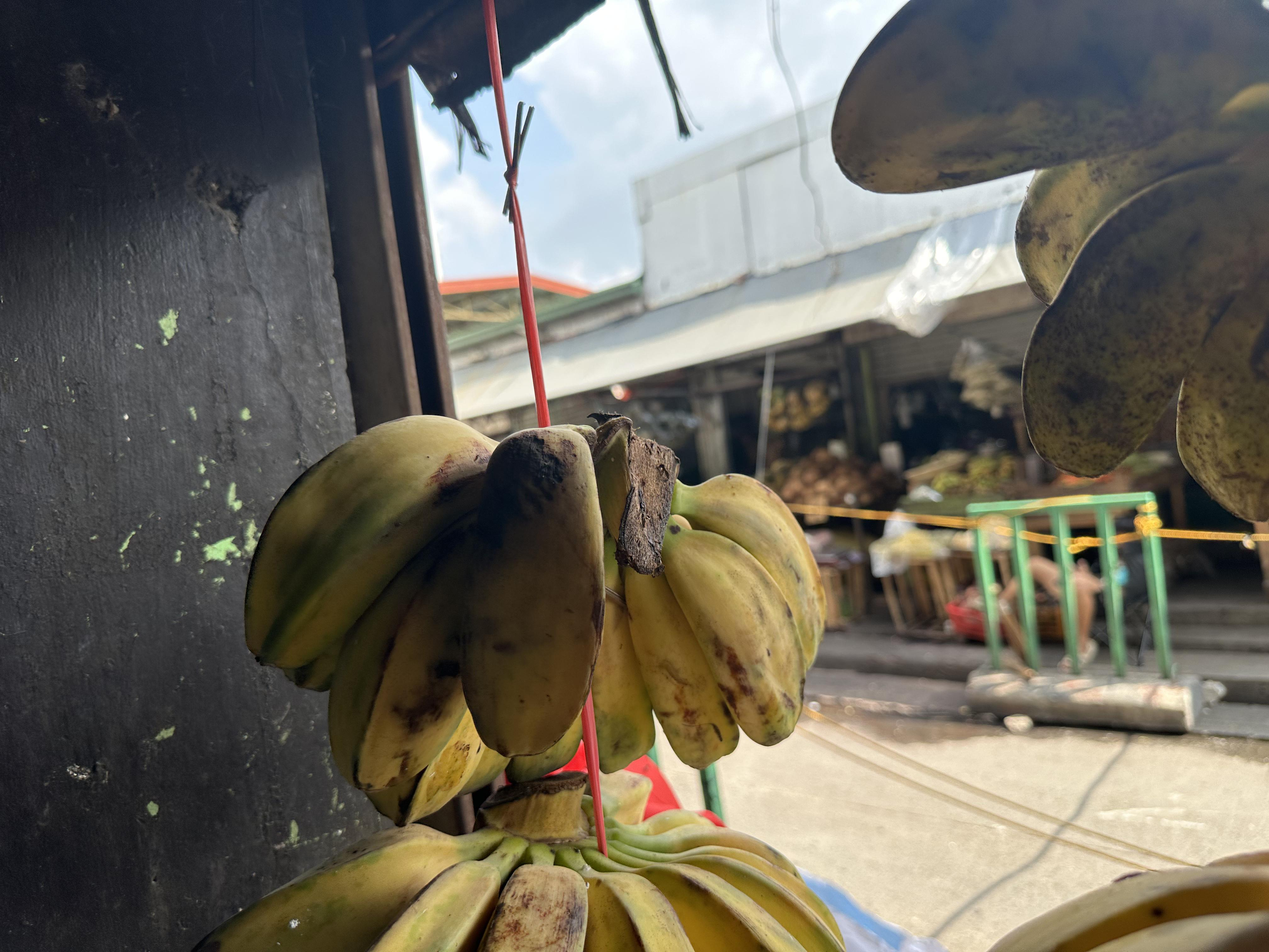underripe: (831, 2, 1268, 523), (245, 416, 605, 824), (197, 810, 846, 952), (592, 475, 826, 771)
